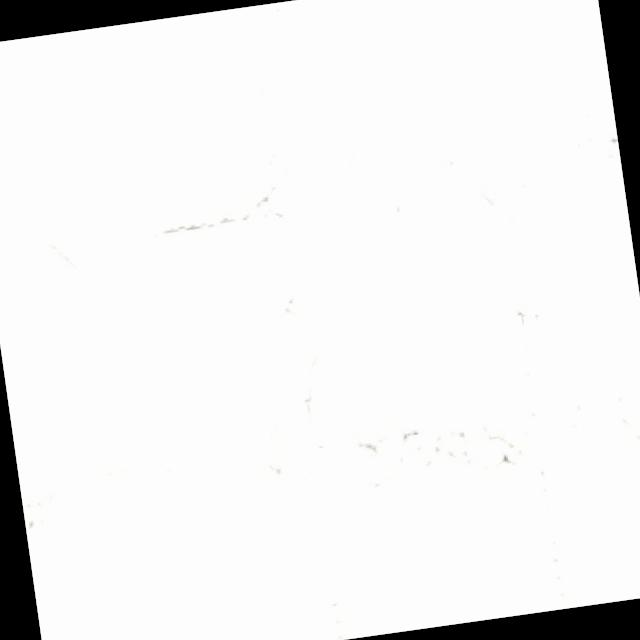crack: (290, 402, 532, 512), (142, 162, 302, 250)
